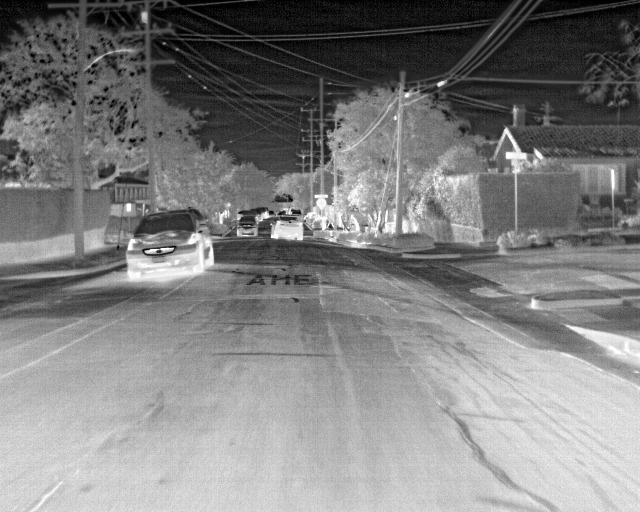car: (125, 206, 216, 285), (270, 214, 305, 242), (236, 218, 256, 238), (244, 207, 260, 222), (257, 206, 271, 218)
